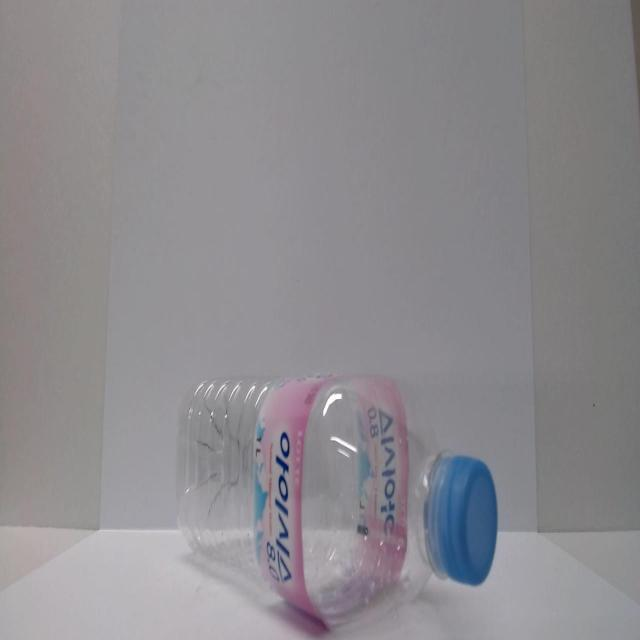bottle: (171, 350, 505, 640)
